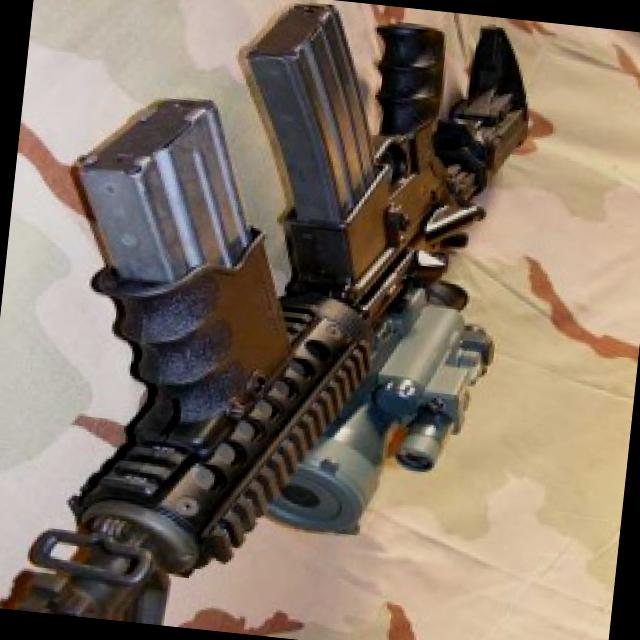long weapon: (33, 0, 554, 637)
